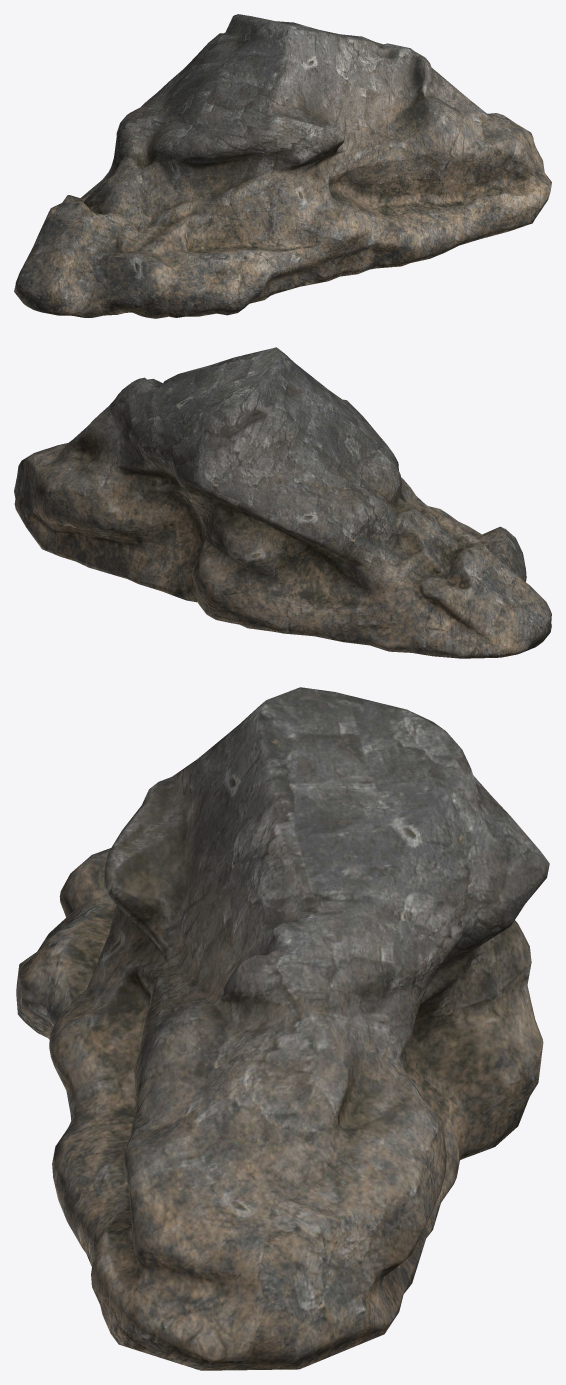
Rendered from Mountains_v1_p2_2.gltf.
The picture shows the model from 3 angles, top to bottom: view 1: azimuth 30°, elevation 25°; view 2: azimuth 150°, elevation 25°; view 3: azimuth 270°, elevation 25°; orthographic projection. The views are drawn at different scales.
Visible parts, largest first — view 1: Mountains_v1_p2_2(Clone); view 2: Mountains_v1_p2_2(Clone); view 3: Mountains_v1_p2_2(Clone).
Boxes of the visible parts, box(x1,y1,x2,y2) form: Mountains_v1_p2_2(Clone): box(14, 14, 551, 318); Mountains_v1_p2_2(Clone): box(14, 347, 551, 658); Mountains_v1_p2_2(Clone): box(16, 687, 549, 1370).
Size of the model in its own units: 84.45 by 34.79 by 37.86.
1 material, 1 textured.
